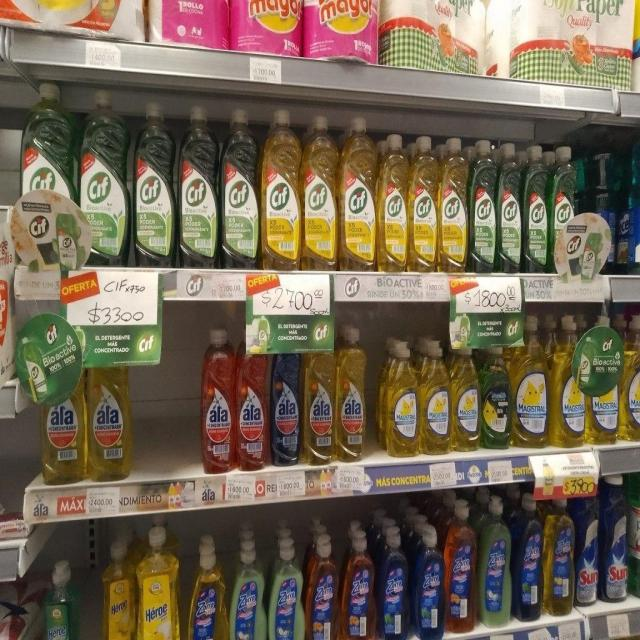ala_conc_amarillo: (88, 360, 133, 482), (336, 322, 367, 462), (302, 342, 334, 465)
ala_conc_azul: (270, 346, 300, 466)
ala_conc_rojo: (200, 326, 234, 473), (236, 329, 269, 471)
cif_conc_bot_amarilla: (261, 108, 301, 270), (340, 115, 376, 272), (302, 113, 337, 271), (378, 132, 408, 272), (408, 134, 438, 273), (438, 136, 468, 272)
cif_conc_botella_verde: (19, 82, 77, 270), (80, 87, 129, 267), (133, 98, 175, 267), (178, 104, 218, 268), (220, 105, 259, 268), (470, 138, 496, 273), (550, 144, 576, 275), (497, 140, 522, 273), (523, 143, 548, 274)
drive: (230, 0, 300, 56), (150, 0, 228, 47)
magistral_con_amarillo: (513, 317, 549, 448), (551, 314, 585, 447), (384, 338, 418, 457), (420, 338, 450, 455), (451, 344, 480, 452), (621, 313, 640, 441)
zorro: (478, 495, 512, 628), (187, 532, 226, 640), (446, 499, 476, 634), (230, 531, 266, 640), (268, 532, 303, 640), (378, 524, 410, 640), (342, 528, 375, 640), (413, 523, 444, 640), (544, 496, 574, 616), (514, 494, 542, 622), (306, 532, 339, 640)
